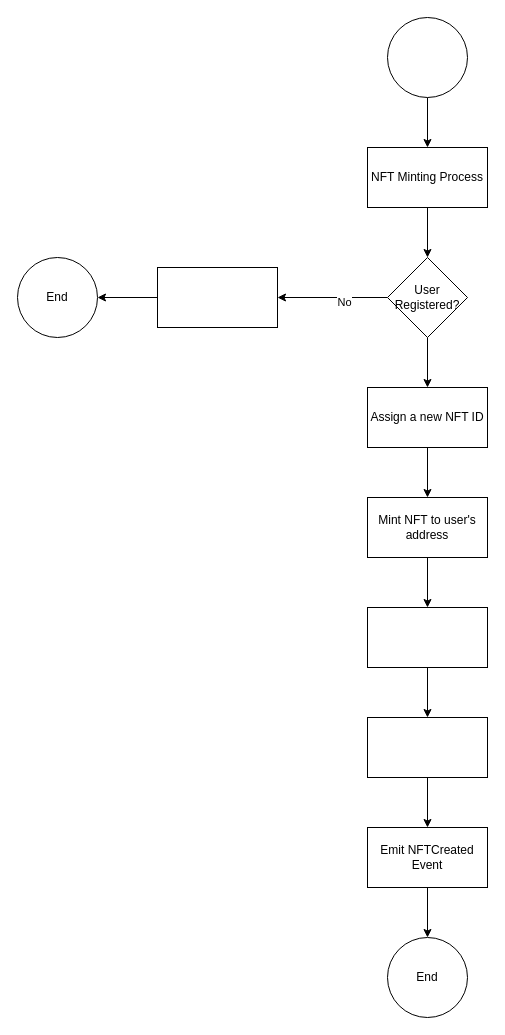
Some shapes in this 505 by 1035 pixel diagram are drawn without their labels. The shapes that lost their labels are listed below. From the top down, each one's centre as x and y in pixels, then its label:
point 427,57: Start
point 217,297: Error: User not registered
point 427,637: Store NFT Metadata
point 427,747: Update user's inventory
